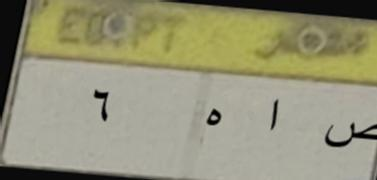6: (82, 86, 122, 126)
alif: (260, 94, 288, 140)
haa: (198, 103, 228, 136)
saad: (320, 110, 377, 157)
